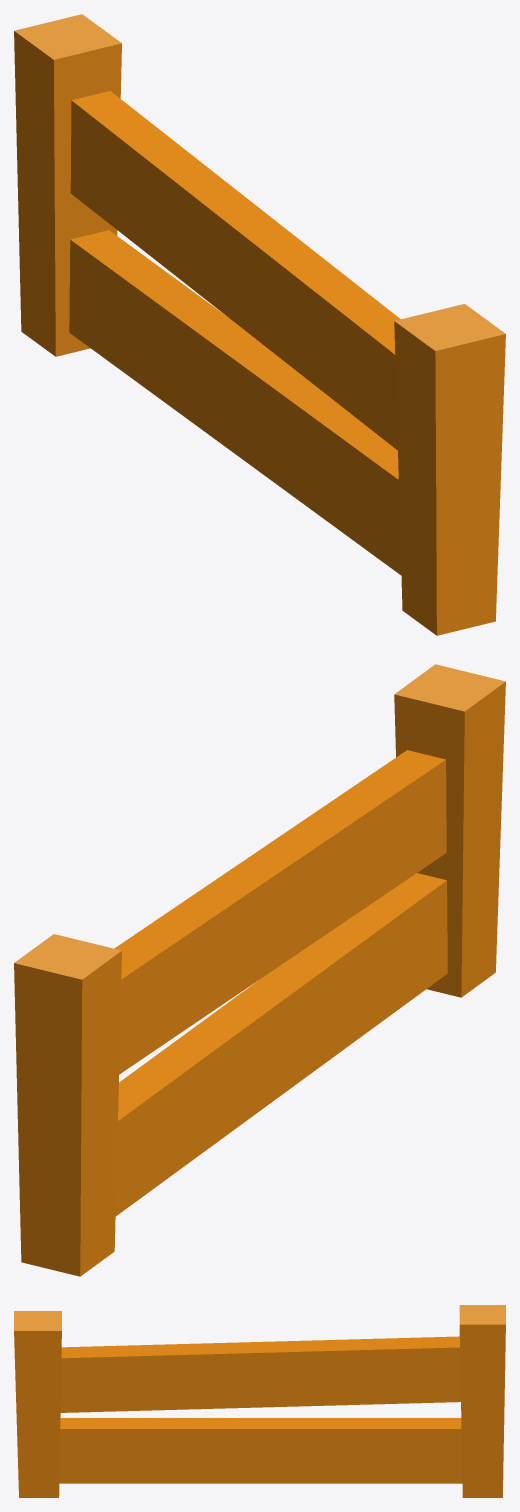
File: fence 1.fbx
The picture shows the model from 3 angles, top to bottom: view 1: azimuth 30°, elevation 25°; view 2: azimuth 150°, elevation 25°; view 3: azimuth 270°, elevation 25°; orthographic projection. The views are drawn at different scales.
Parts seen in each view (by area): view 1: fence1; view 2: fence1; view 3: fence1.
Part boxes in pixels (bbox=[...]): fence1: bbox=[14, 14, 505, 635]; fence1: bbox=[14, 664, 505, 1276]; fence1: bbox=[14, 1305, 505, 1497].
Bounding box in the file's own units: 1.12 × 4.54 × 11.58.
